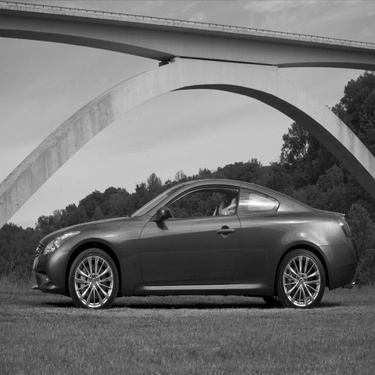car: (29, 149, 360, 308)
